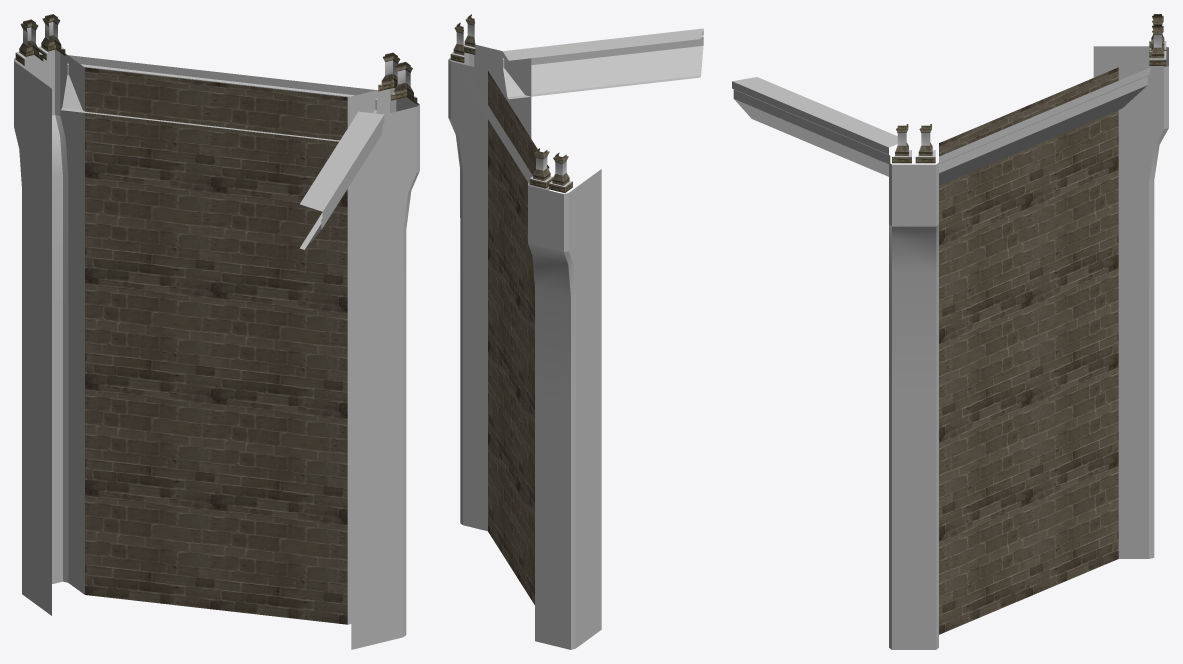
File: TowerUpper_Area1.FBX
The picture shows the model from 3 angles, left to right: view 1: azimuth 30°, elevation 25°; view 2: azimuth 150°, elevation 25°; view 3: azimuth 270°, elevation 25°; orthographic projection. The views are drawn at different scales.
Parts seen in each view (by area): view 1: TowerUpper_Area1; view 2: TowerUpper_Area1; view 3: TowerUpper_Area1.
Part boxes in pixels (box(x1,y1,x2,y2)): TowerUpper_Area1: box(14, 14, 419, 649); TowerUpper_Area1: box(448, 14, 703, 649); TowerUpper_Area1: box(732, 14, 1168, 649).
Size of what is drawn, in the model's own units: 1794 by 2802 by 3733.
